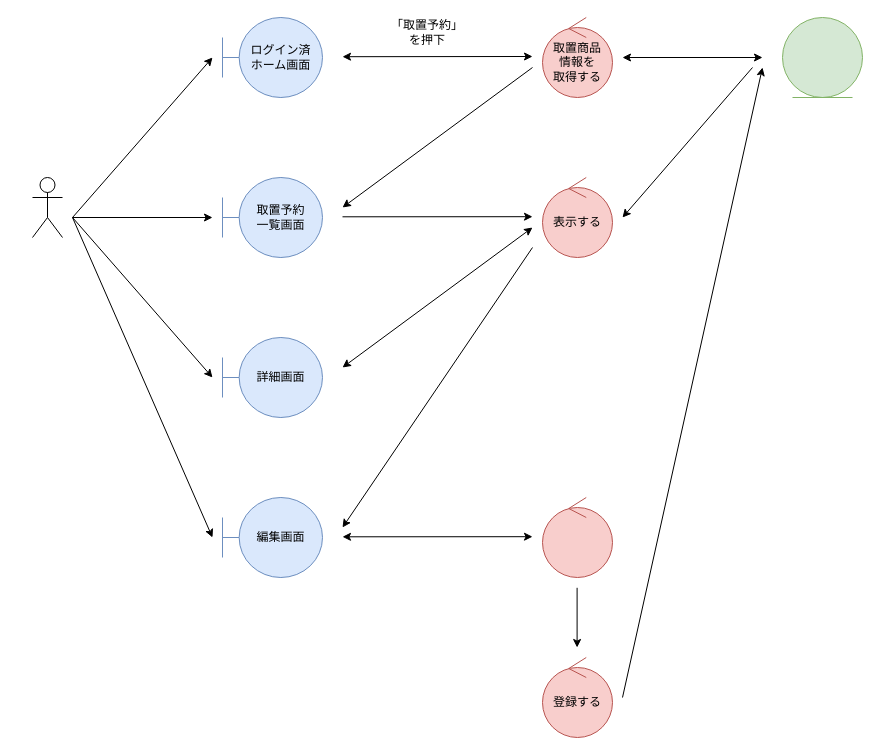
Image size: 880x755. Some labels were removed from this diagram. The centre of each missing label's shape, as x and y in pixels:
"入力データを確認する" goes at pixel 577 537.
"取置商品 情報" goes at pixel 822 57.
"正規社員 非正規社員" goes at pixel 47 207.
